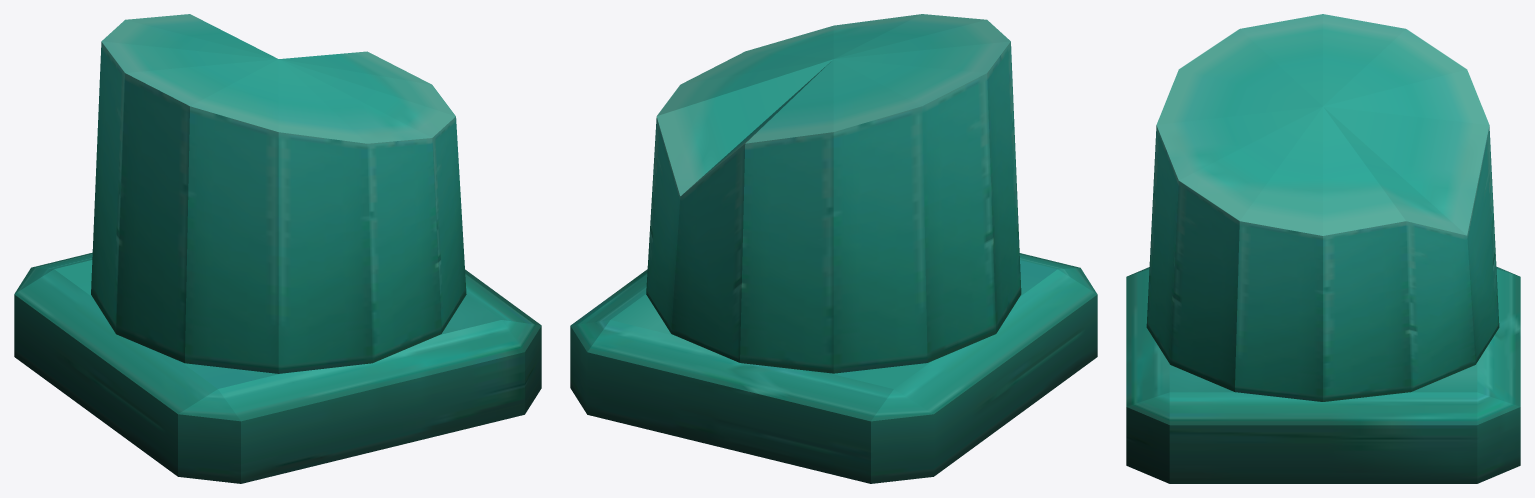
The model's file is wall_column7 (merge).fbx.
3 renders of one model, left to right at view 1: azimuth 30°, elevation 25°; view 2: azimuth 150°, elevation 25°; view 3: azimuth 270°, elevation 25°, orthographic. The views are drawn at different scales.
Visible parts, largest first — view 1: wall_column7; view 2: wall_column7; view 3: wall_column7.
Part boxes in pixels (bbox=[...]): wall_column7: bbox=[14, 14, 541, 483]; wall_column7: bbox=[570, 14, 1097, 483]; wall_column7: bbox=[1126, 14, 1520, 483].
Bounding box in the file's own units: 0.9957 × 0.8814 × 0.9957.
1 material, 1 textured.
